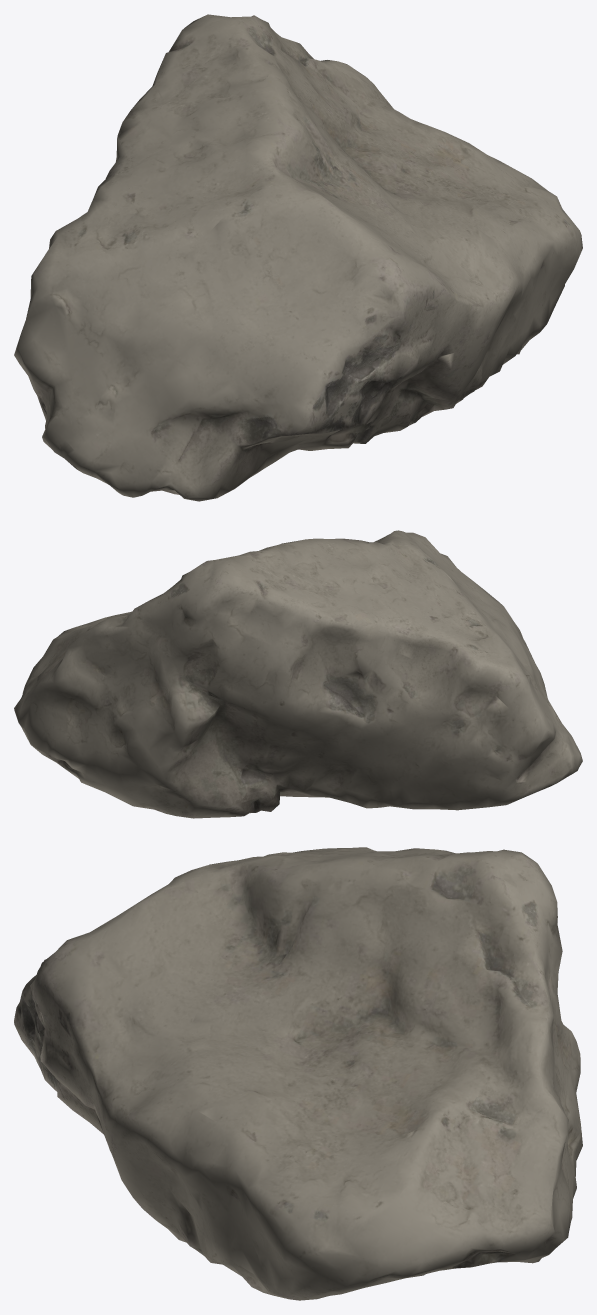
Rendered from moon_rock_03.glb.
3 views of the same model, one above another, from view 1: azimuth 30°, elevation 25°; view 2: azimuth 150°, elevation 25°; view 3: azimuth 270°, elevation 25° (orthographic). The views are drawn at different scales.
Parts seen in each view (by area): view 1: lod0; view 2: lod0; view 3: lod0.
Boxes of the visible parts, x1,y1,x2,y2 form: lod0: (14, 14, 582, 501); lod0: (14, 530, 582, 818); lod0: (14, 847, 582, 1300).
Size of what is drawn, in the model's own units: 2.47 by 1.28 by 1.9.
1 material, 1 textured.
